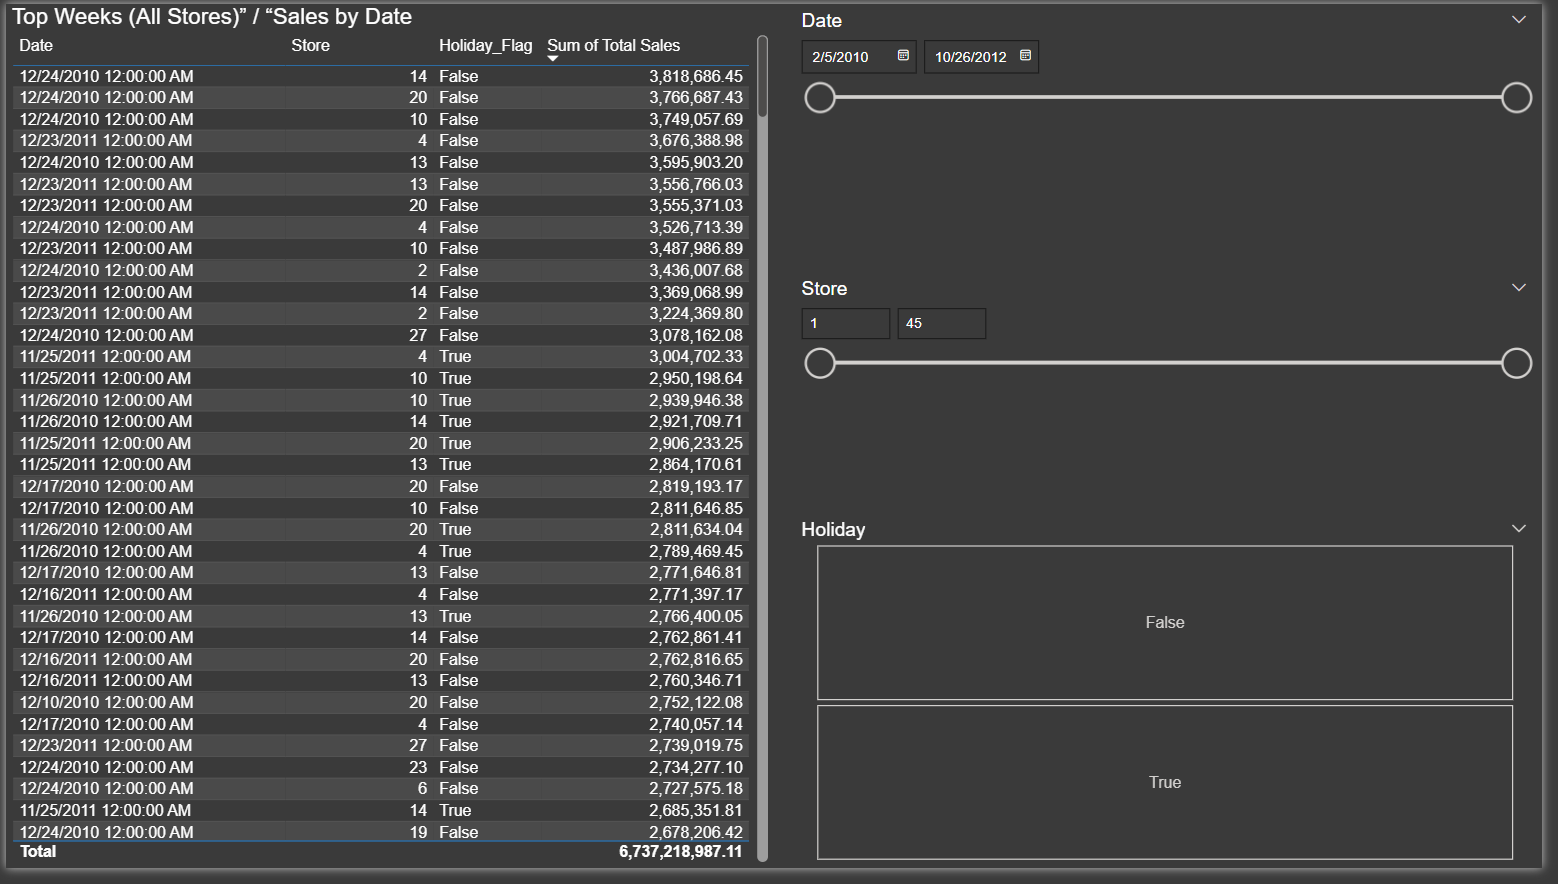

The dashboard page shown, as its layout file describes it:
{"tool":"powerbi","page":{"name":"Page 4","canvas":[1280,720],"ordinal":3},"visuals":[{"type":"tableEx","fields":{"Values":["Daily Summary.Date.Variation.Иерархия дат.Год","Daily Summary.Date.Variation.Иерархия дат.Месяц","Daily Summary.Date.Variation.Иерархия дат.День","Daily Summary.Store","Daily Summary.Holiday_Flag","Daily Summary.Total Sales"]},"box":[0,0,640,720],"z":0},{"type":"slicer","fields":{"Values":["Daily Summary.Date"]},"box":[650,0,630,223],"z":1000},{"type":"slicer","fields":{"Values":["Daily Summary.Store"]},"box":[650,223,630,201],"z":2000},{"type":"slicer","fields":{"Values":["Daily Summary.Holiday_Flag"]},"box":[650,424,630,296],"z":3000}]}

Visuals, with their boxes in screenshot pixels (x1, y1, x2, y2), scaled from the page's 1280x720 canvas onto the 1558x884 screenshot:
tableEx - Daily Summary.Date.Variation.Иерархия дат.Год x Daily Summary.Date.Variation.Иерархия дат.Месяц: select_region(0, 0, 779, 883)
slicer - Daily Summary.Date: select_region(791, 0, 1557, 274)
slicer - Daily Summary.Store: select_region(791, 274, 1557, 521)
slicer - Daily Summary.Holiday_Flag: select_region(791, 521, 1557, 883)
